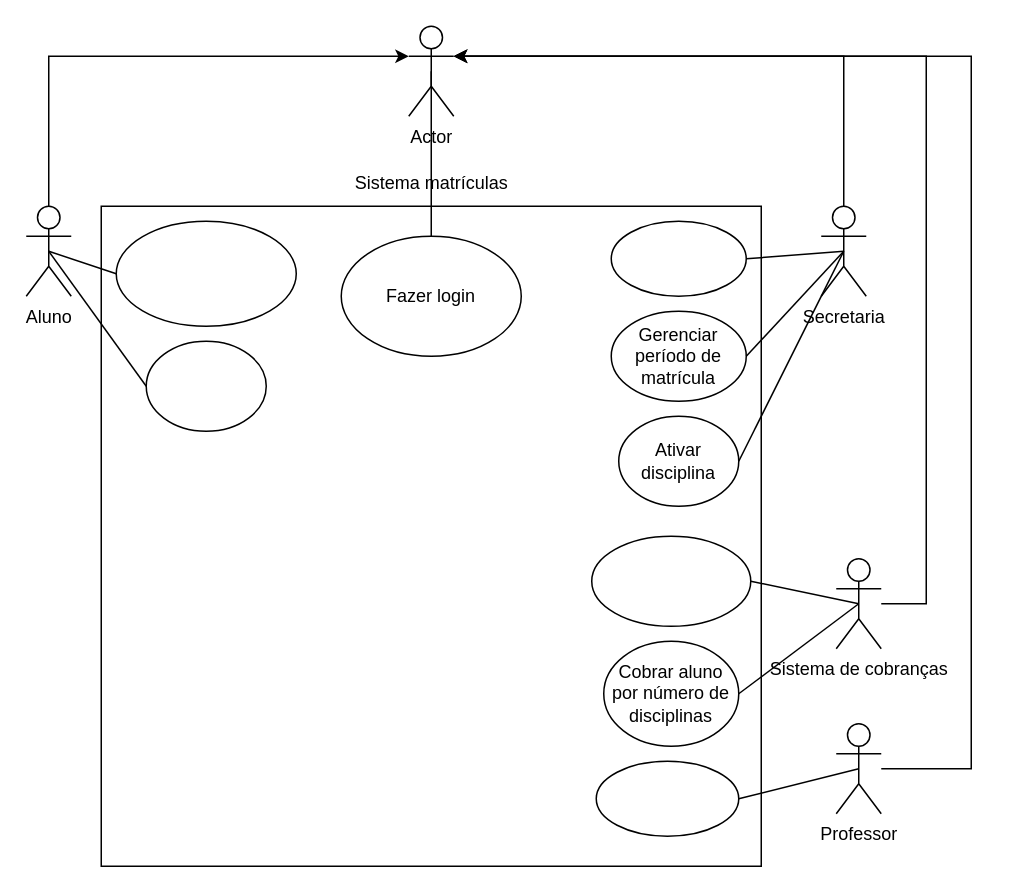
Image size: 1010x893. Some labels were removed from this diagram. Each missing label, with the centre of its shape:
"Gerar currículo" goes at point 678,258.
"Matricular em disciplina obrigatória" goes at point 205,273.
"Matricular em optativa" goes at point 205,385.
"Receber notificação de matrículas de aluno" goes at point 670,580.
"Ver alunos matriculados" goes at point 667,798.
